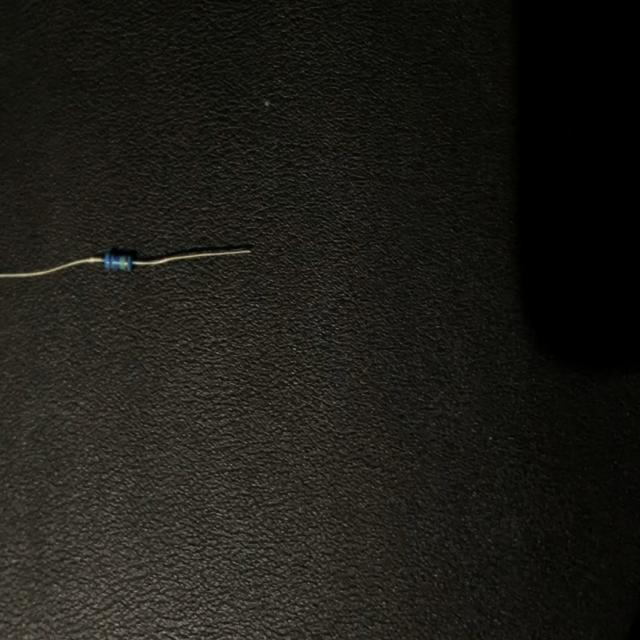resistor: (2, 226, 254, 292)
